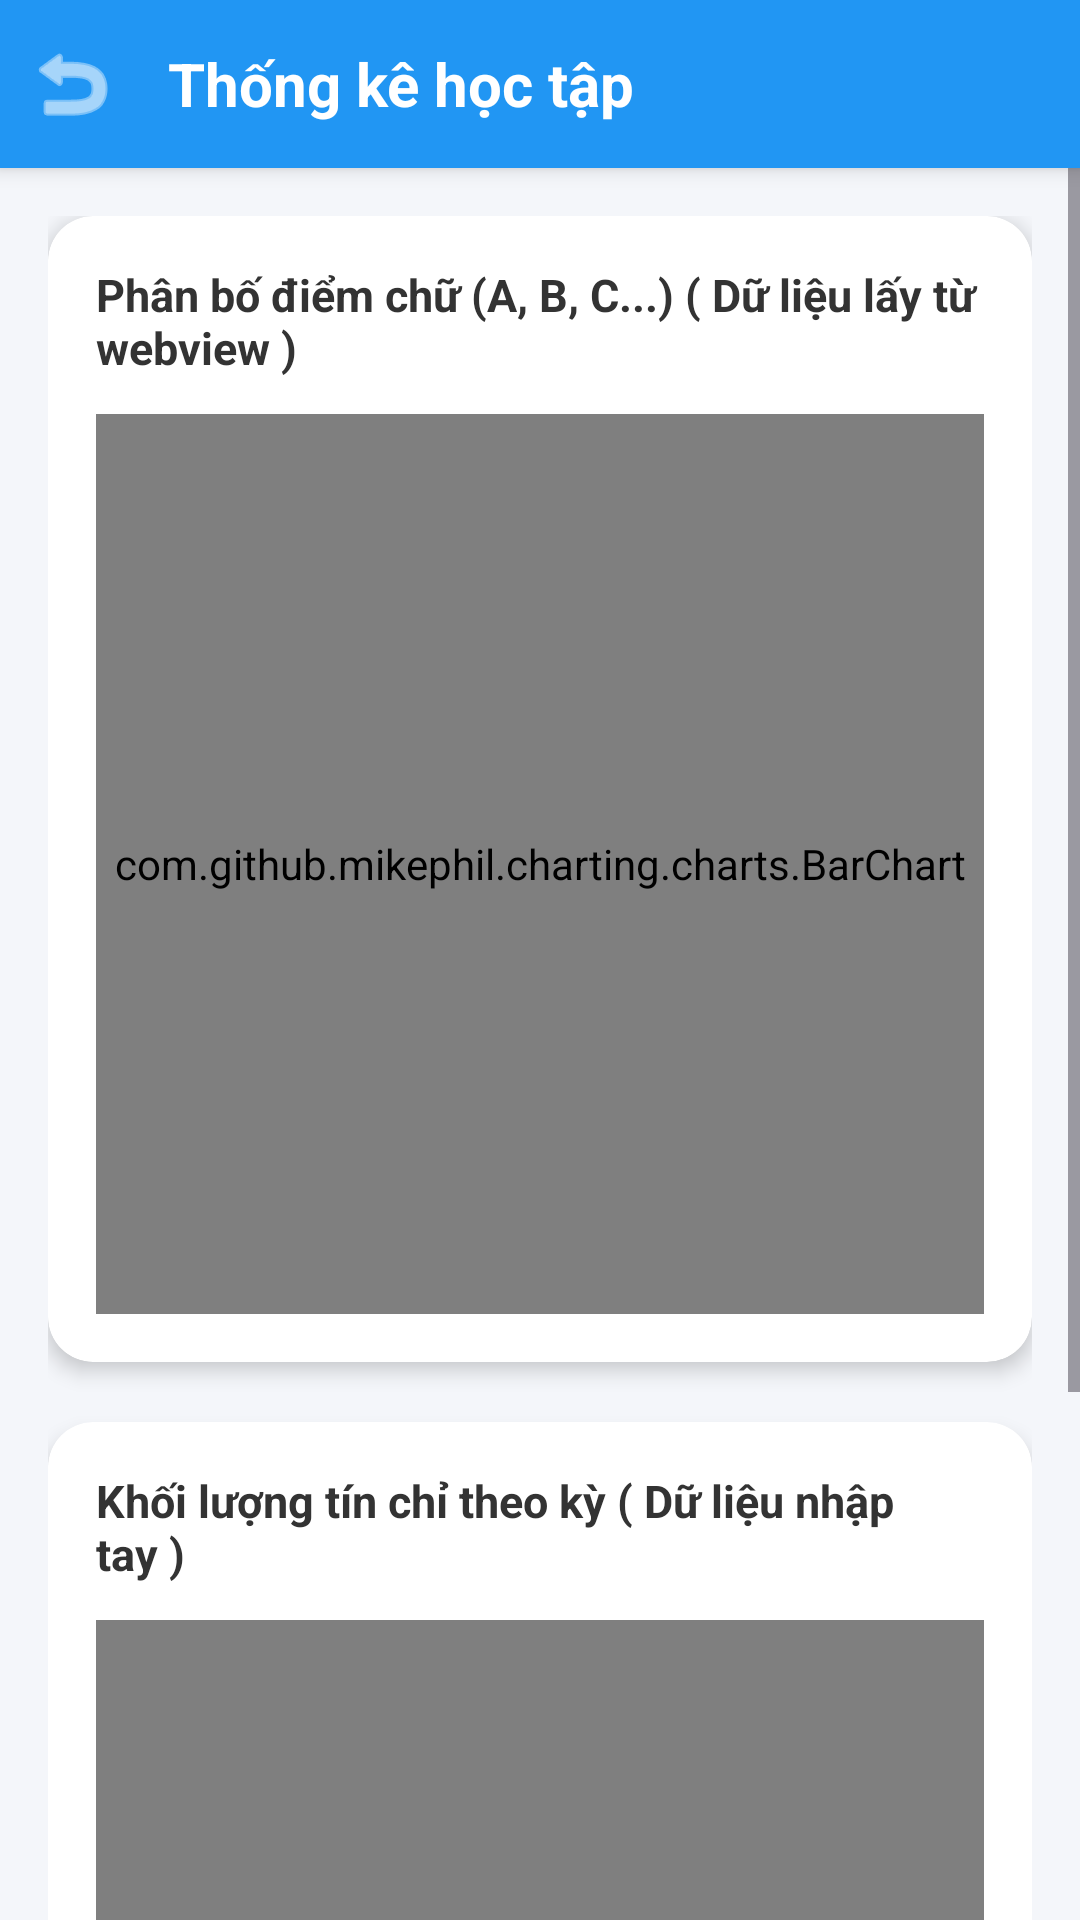

Where to tap for icons on this 1080px×1920px app screen, as point (x, y):
Quay lại: point (73, 84)
